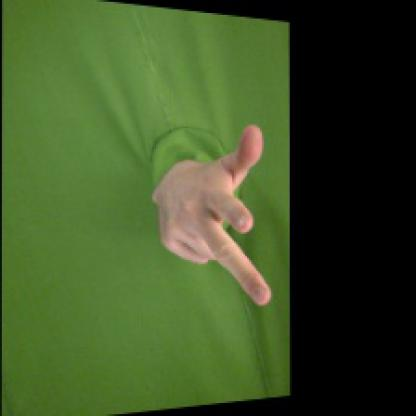Hand: (154, 126, 273, 309)
